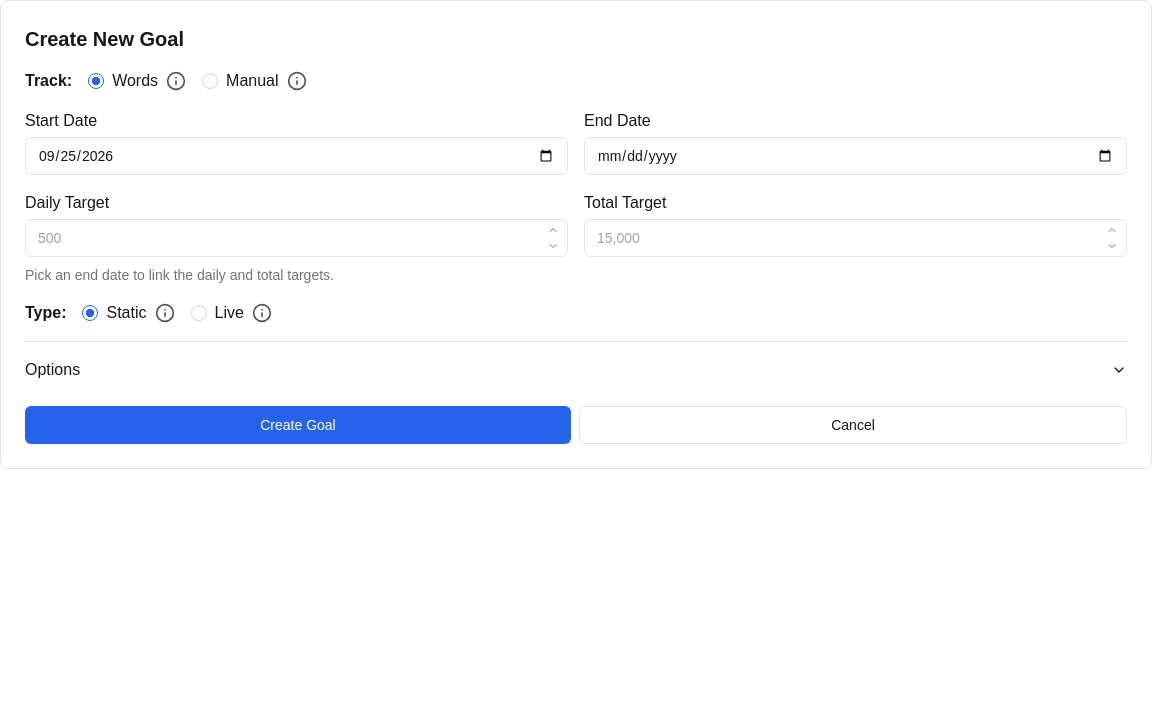
Scenario: CreateGoalForm › reveals an info popover when the mode's info icon is clicked
Click the button named "about live mode" at coordinates (262, 313), box [252,303,272,323]
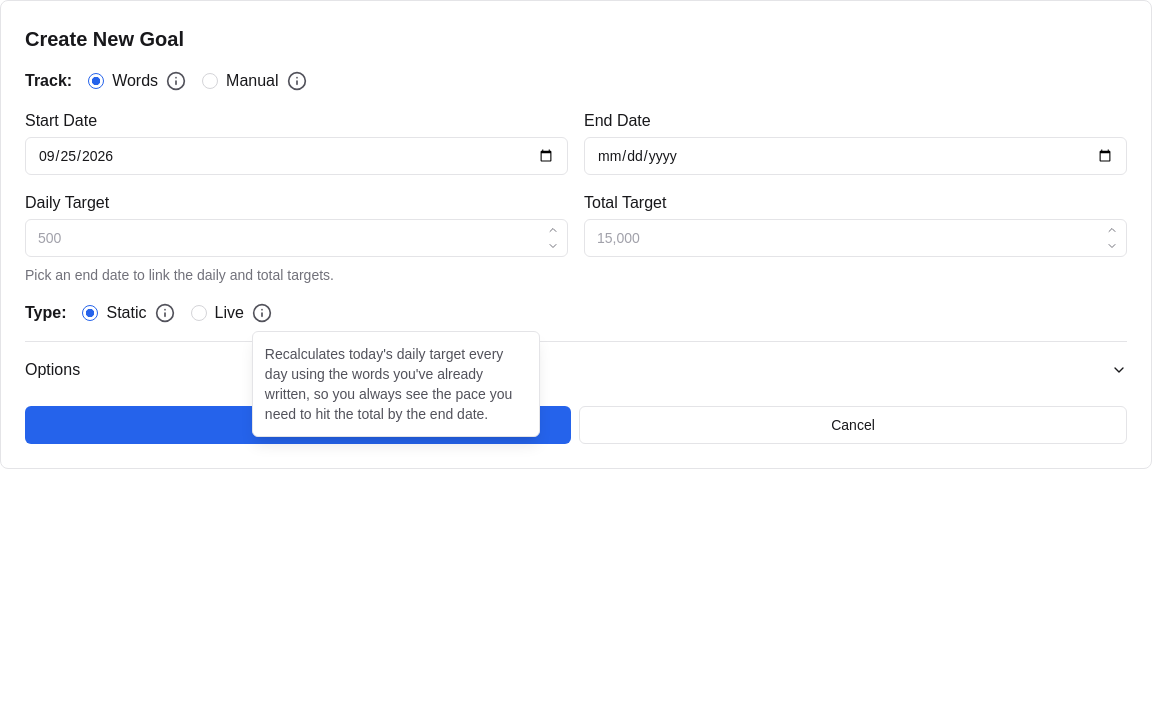
Result: the dialog named "about live mode" shows "Recalculates" at [265,346,512,422]
